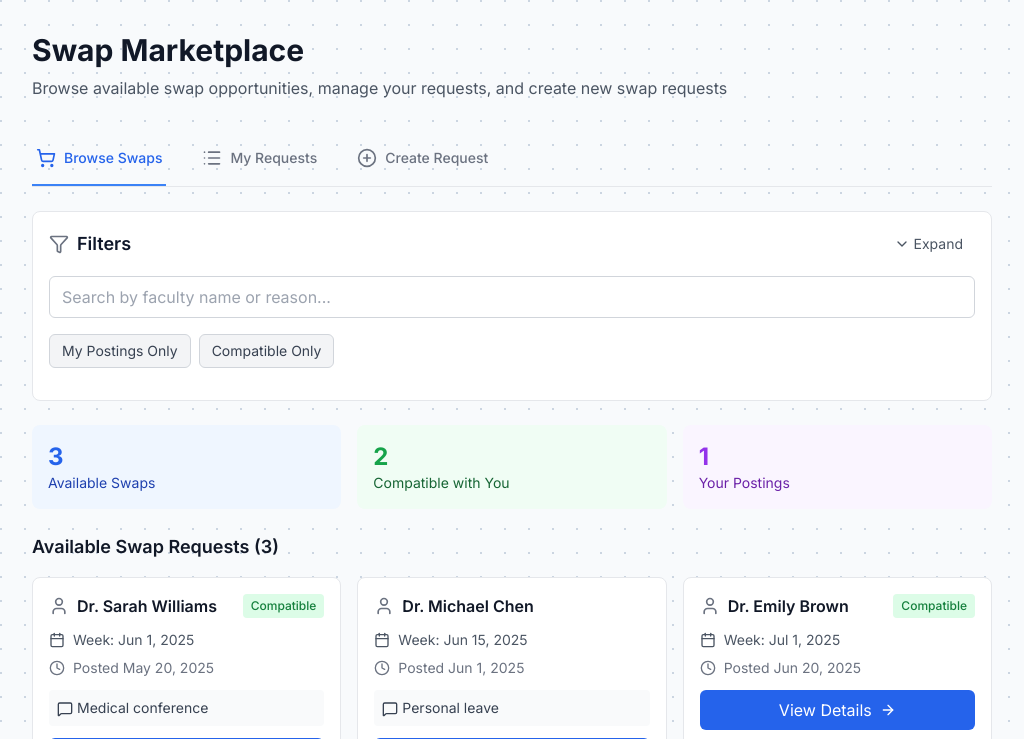
Test case: SwapMarketplace › My Requests Tab › should render MySwapRequests component when tab is clicked
This screenshot has width=1024, height=739.
Click the tab "My Requests" at {"x": 260, "y": 159}, box [198, 132, 321, 186]
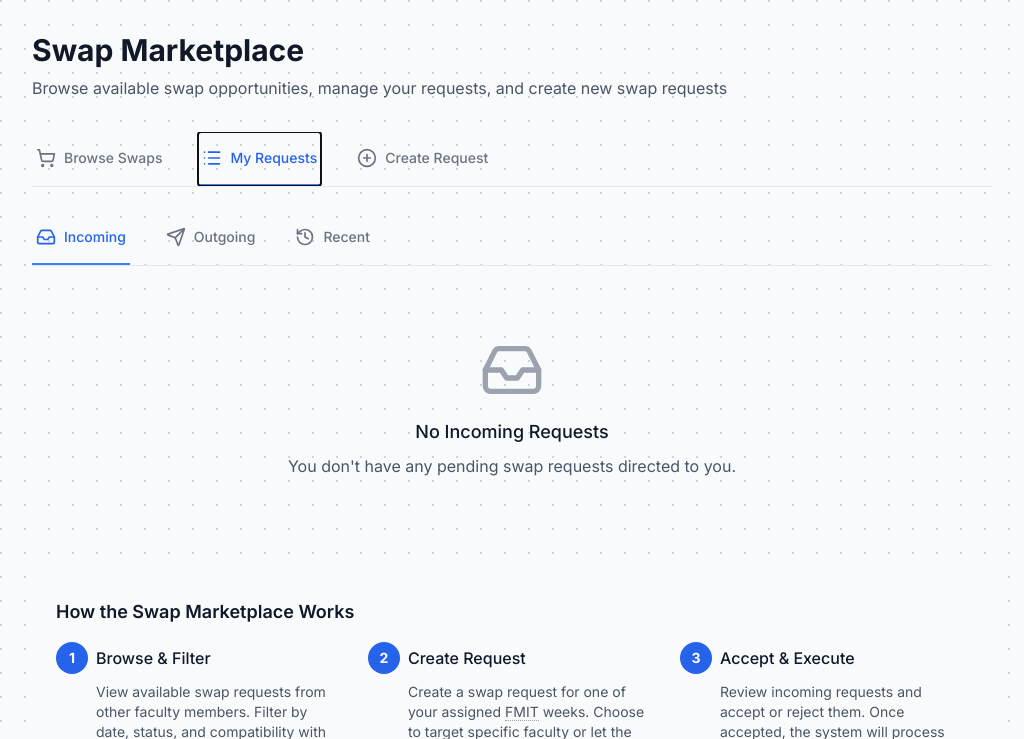
expect the tab "Incoming" is shown: met, box [32, 211, 130, 265]
expect the tab "Outgoing" is shown: met, box [162, 211, 259, 265]
expect the tab "Recent" is shown: met, box [291, 211, 374, 265]
